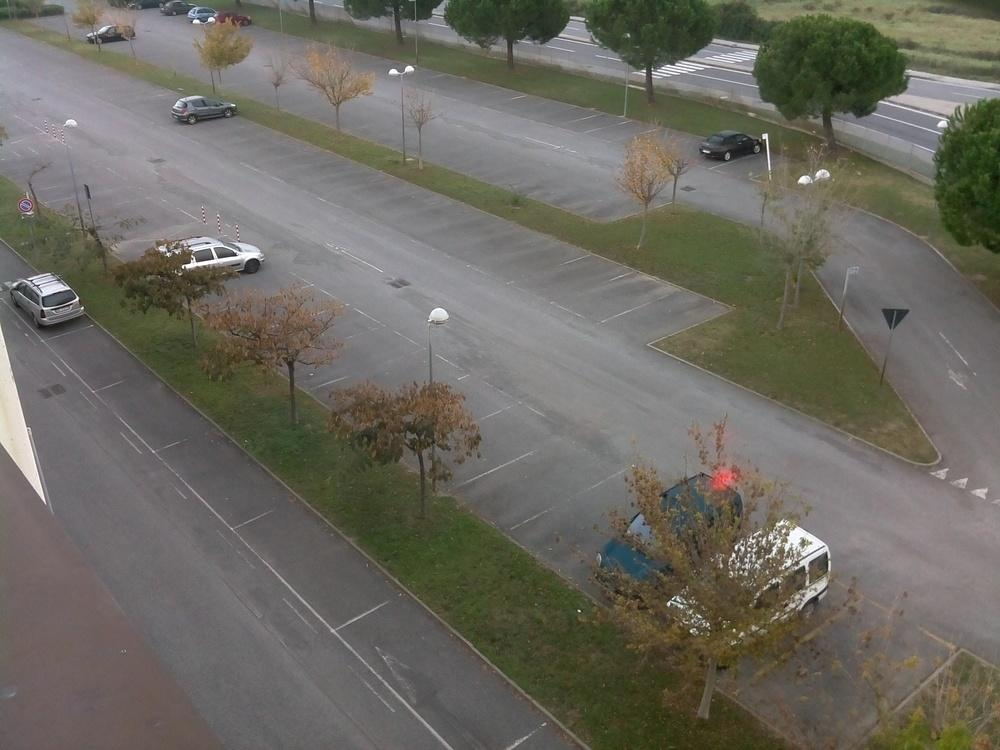empty: (586, 471, 754, 607), (676, 529, 834, 657), (151, 236, 268, 285), (6, 276, 95, 330), (169, 94, 242, 127), (698, 131, 765, 164), (86, 18, 139, 49), (186, 9, 222, 27)
occupied: (789, 627, 890, 731), (176, 437, 262, 514), (410, 653, 499, 714), (562, 492, 629, 573), (116, 380, 182, 442), (490, 464, 558, 521), (59, 332, 129, 387), (447, 373, 512, 421), (276, 533, 346, 576), (456, 422, 512, 472), (367, 364, 427, 406), (324, 331, 371, 382), (626, 306, 679, 342), (590, 280, 637, 316), (557, 258, 602, 293), (391, 190, 441, 217), (499, 229, 542, 257), (354, 183, 403, 207), (537, 247, 582, 272), (459, 217, 503, 241), (428, 206, 469, 228), (47, 181, 80, 204), (421, 69, 458, 89), (602, 123, 640, 139), (510, 93, 543, 110), (582, 112, 609, 132), (556, 106, 582, 122)
